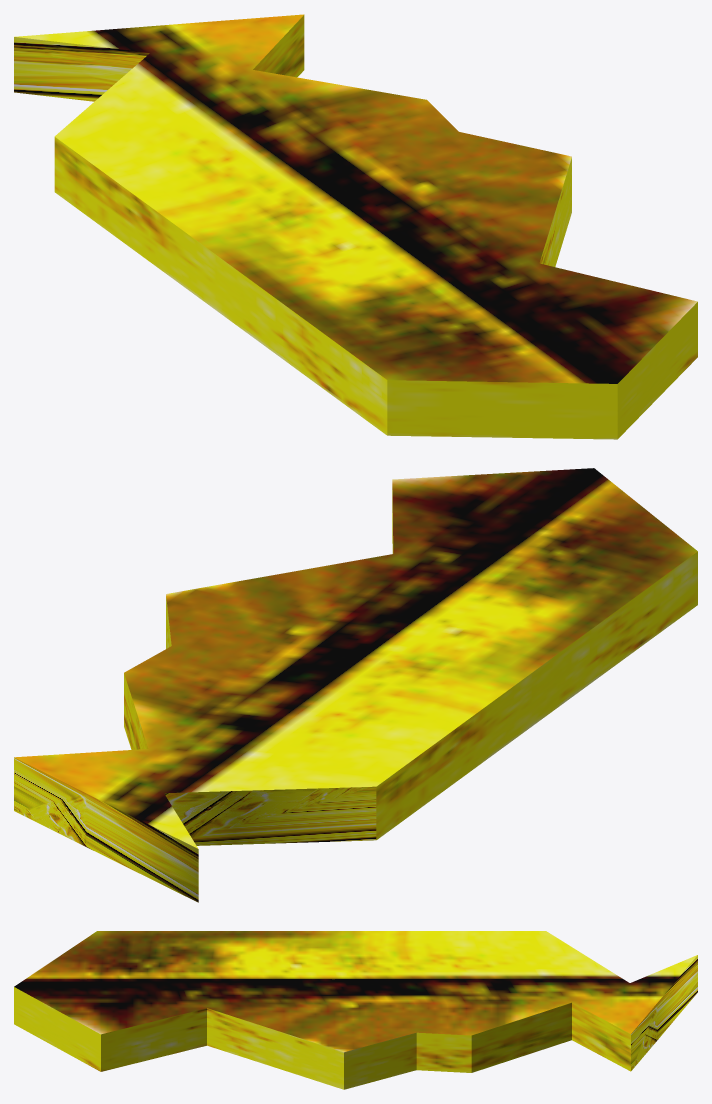
File: item_key01_part2.dae
The picture shows the model from 3 angles, top to bottom: view 1: azimuth 30°, elevation 25°; view 2: azimuth 150°, elevation 25°; view 3: azimuth 270°, elevation 25°; orthographic projection. The views are drawn at different scales.
Visible parts, largest first — view 1: keypart2; view 2: keypart2; view 3: keypart2.
Boxes of the visible parts, x1,y1,x2,y2 form: keypart2: [14, 14, 697, 439]; keypart2: [14, 468, 697, 902]; keypart2: [14, 931, 697, 1089].
Size of what is drawn, in the model's own units: 0.0282 by 0.0672 by 0.00407.
